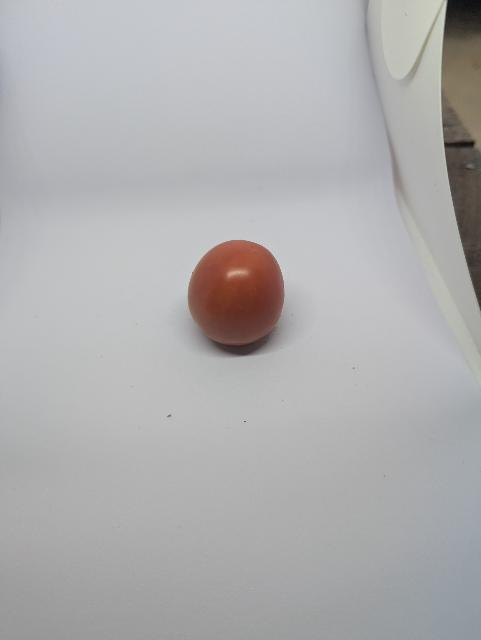red: (181, 222, 297, 364)
